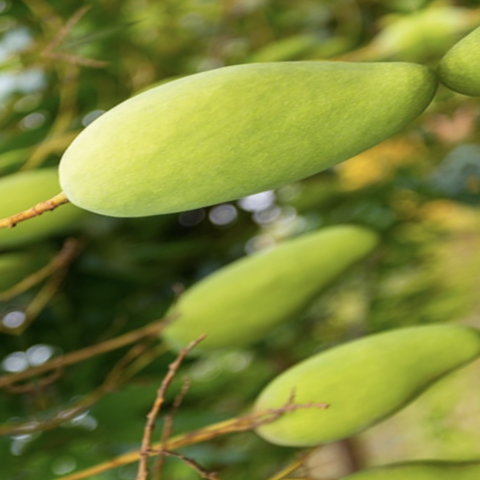mango: (21, 0, 462, 278), (134, 196, 419, 385), (229, 293, 480, 478)
